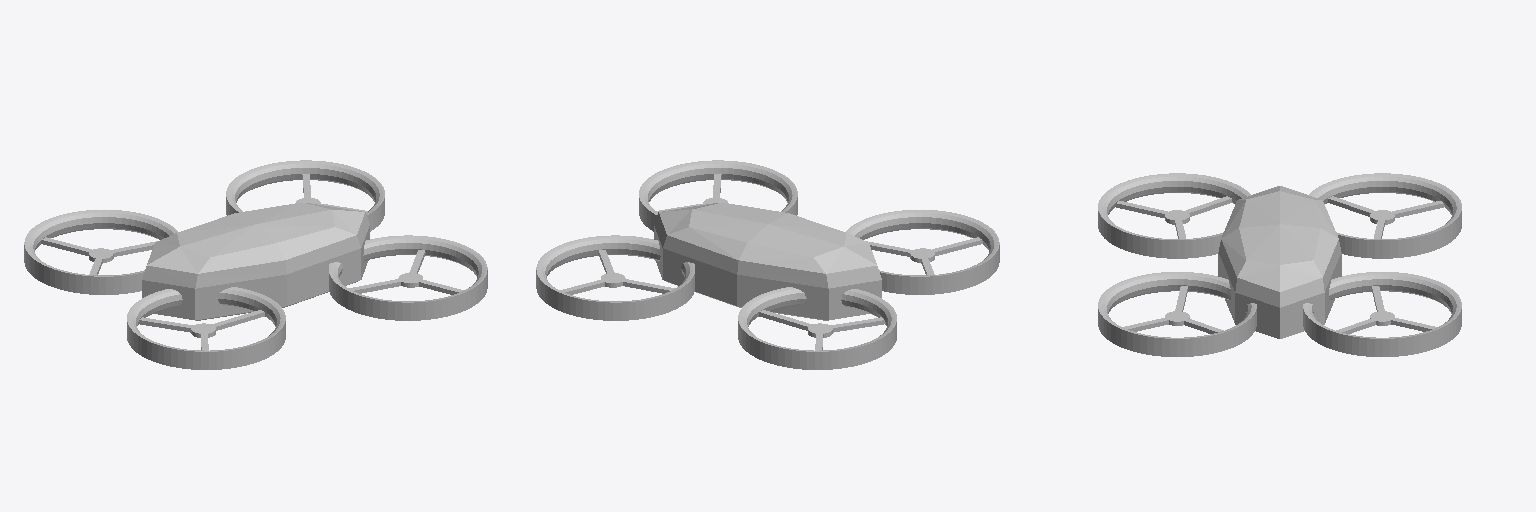
File: Enemy.obj
3 renders of one model, left to right at view 1: azimuth 30°, elevation 25°; view 2: azimuth 150°, elevation 25°; view 3: azimuth 270°, elevation 25°, orthographic.
Visible parts, largest first — view 1: 円, 円柱; view 2: 円, 円柱; view 3: 円, 円柱.
Part boxes in pixels (x1,y1,x2,y2): 円: (24, 160, 487, 369); 円柱: (41, 174, 463, 350); 円: (536, 160, 999, 369); 円柱: (560, 174, 982, 350); 円: (1098, 173, 1461, 356); 円柱: (1115, 196, 1444, 333).
Size of the model in its own units: 3.08 by 0.5498 by 2.86.